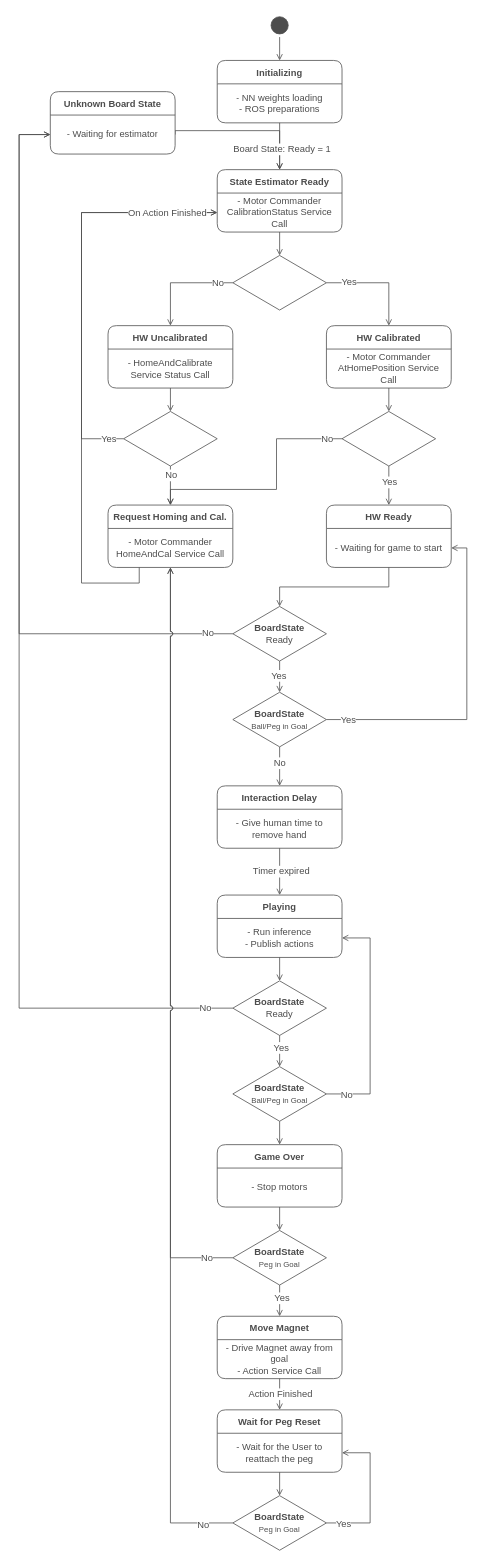
This 487x1564 diagram has some shape labels left out. Here are the shapes that lost their labels. From the top down, the centre of each, then its label:
At (279,282): "Calibrated?".
At (170,438): "Action in Progress?".
At (388,438): "At Home?".
